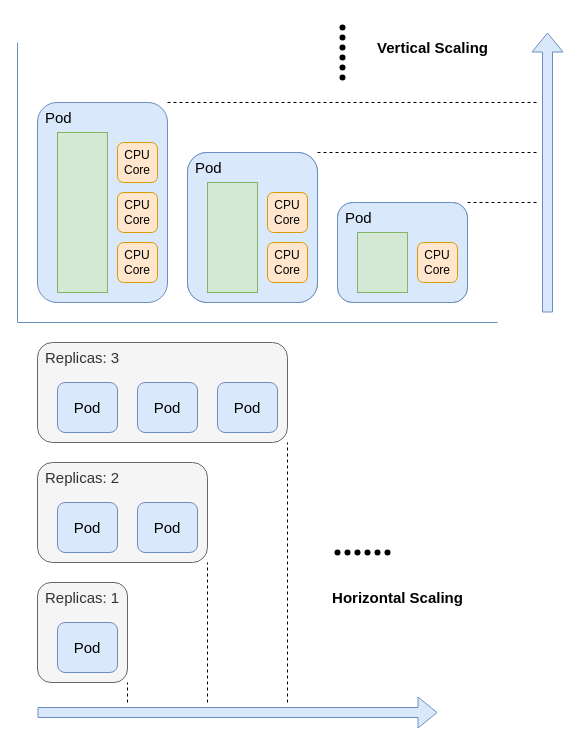
Image size: 581x746. Some labels were removed from this diagram. Here are the shapes that lost their labels. From the top down, the centre of each, then its label:
the point at 82,212: RAM: 1.5Gi
the point at 232,237: RAM: 1Gi
the point at 382,262: RAM: 0.5Gi
